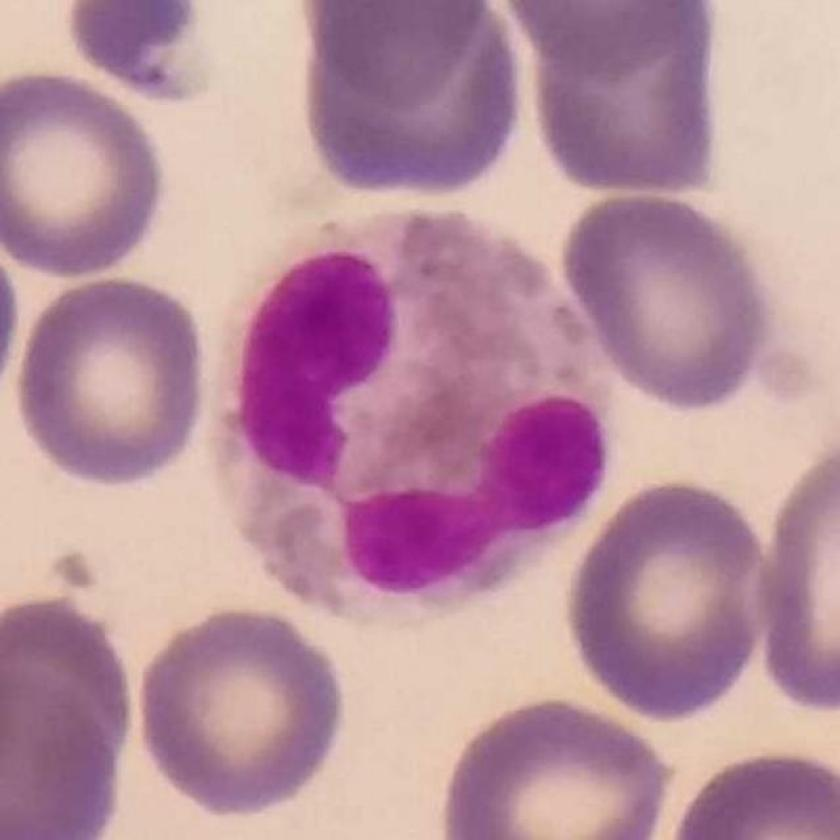eosinophil: (203, 188, 635, 637)
